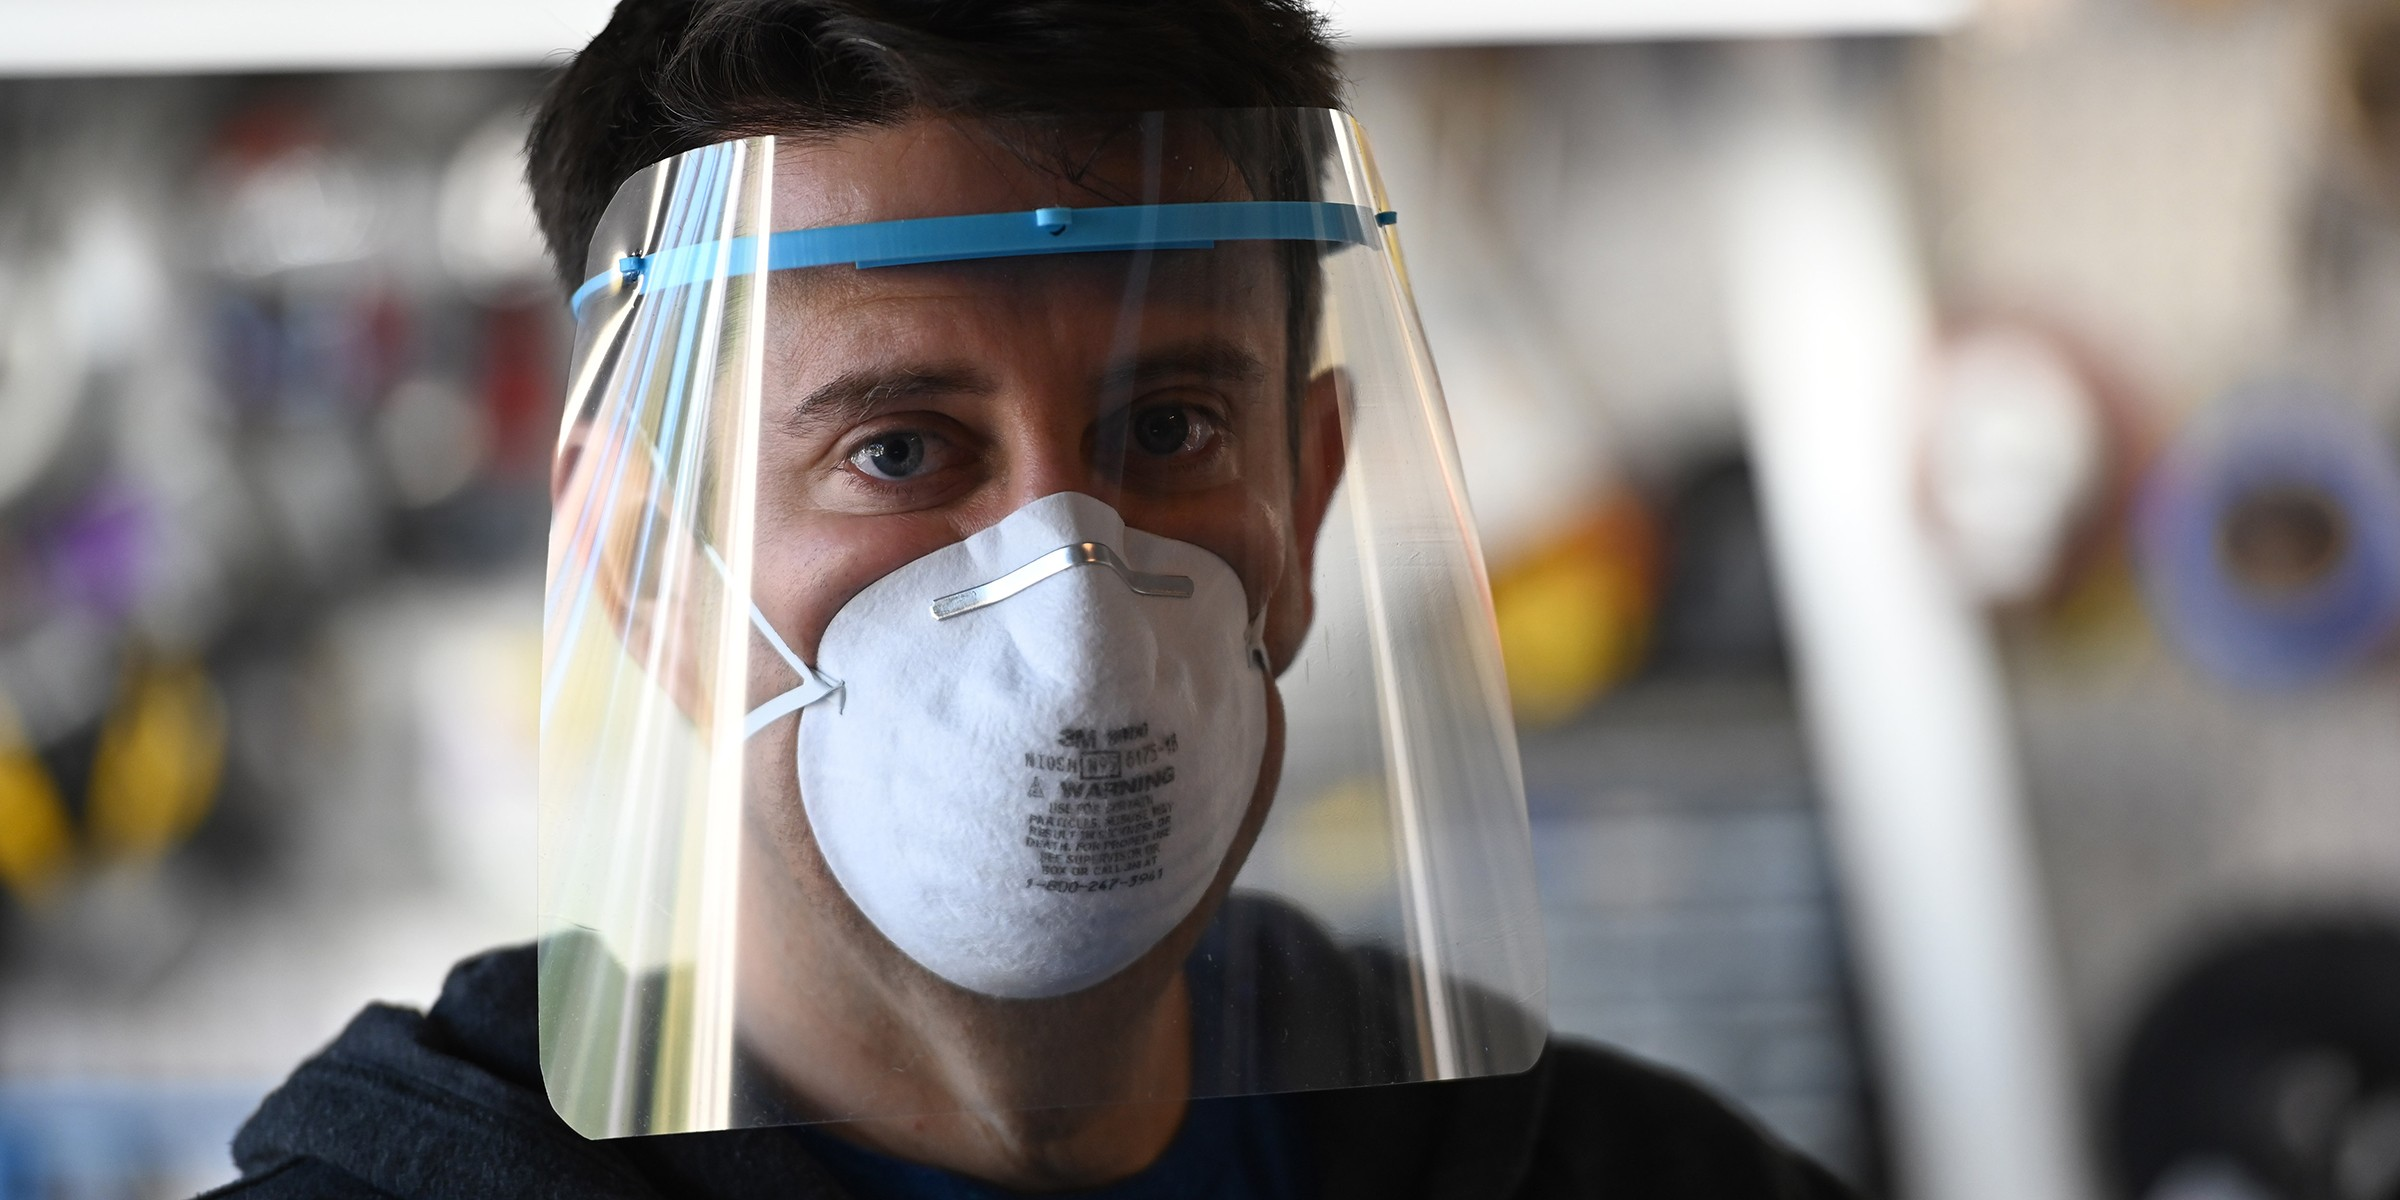Face_Shield: (531, 97, 1500, 1142)
with_mask: (765, 350, 1307, 1018)
